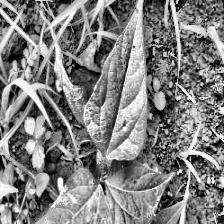ALS: (87, 0, 143, 161), (102, 160, 176, 224), (27, 168, 110, 224)
